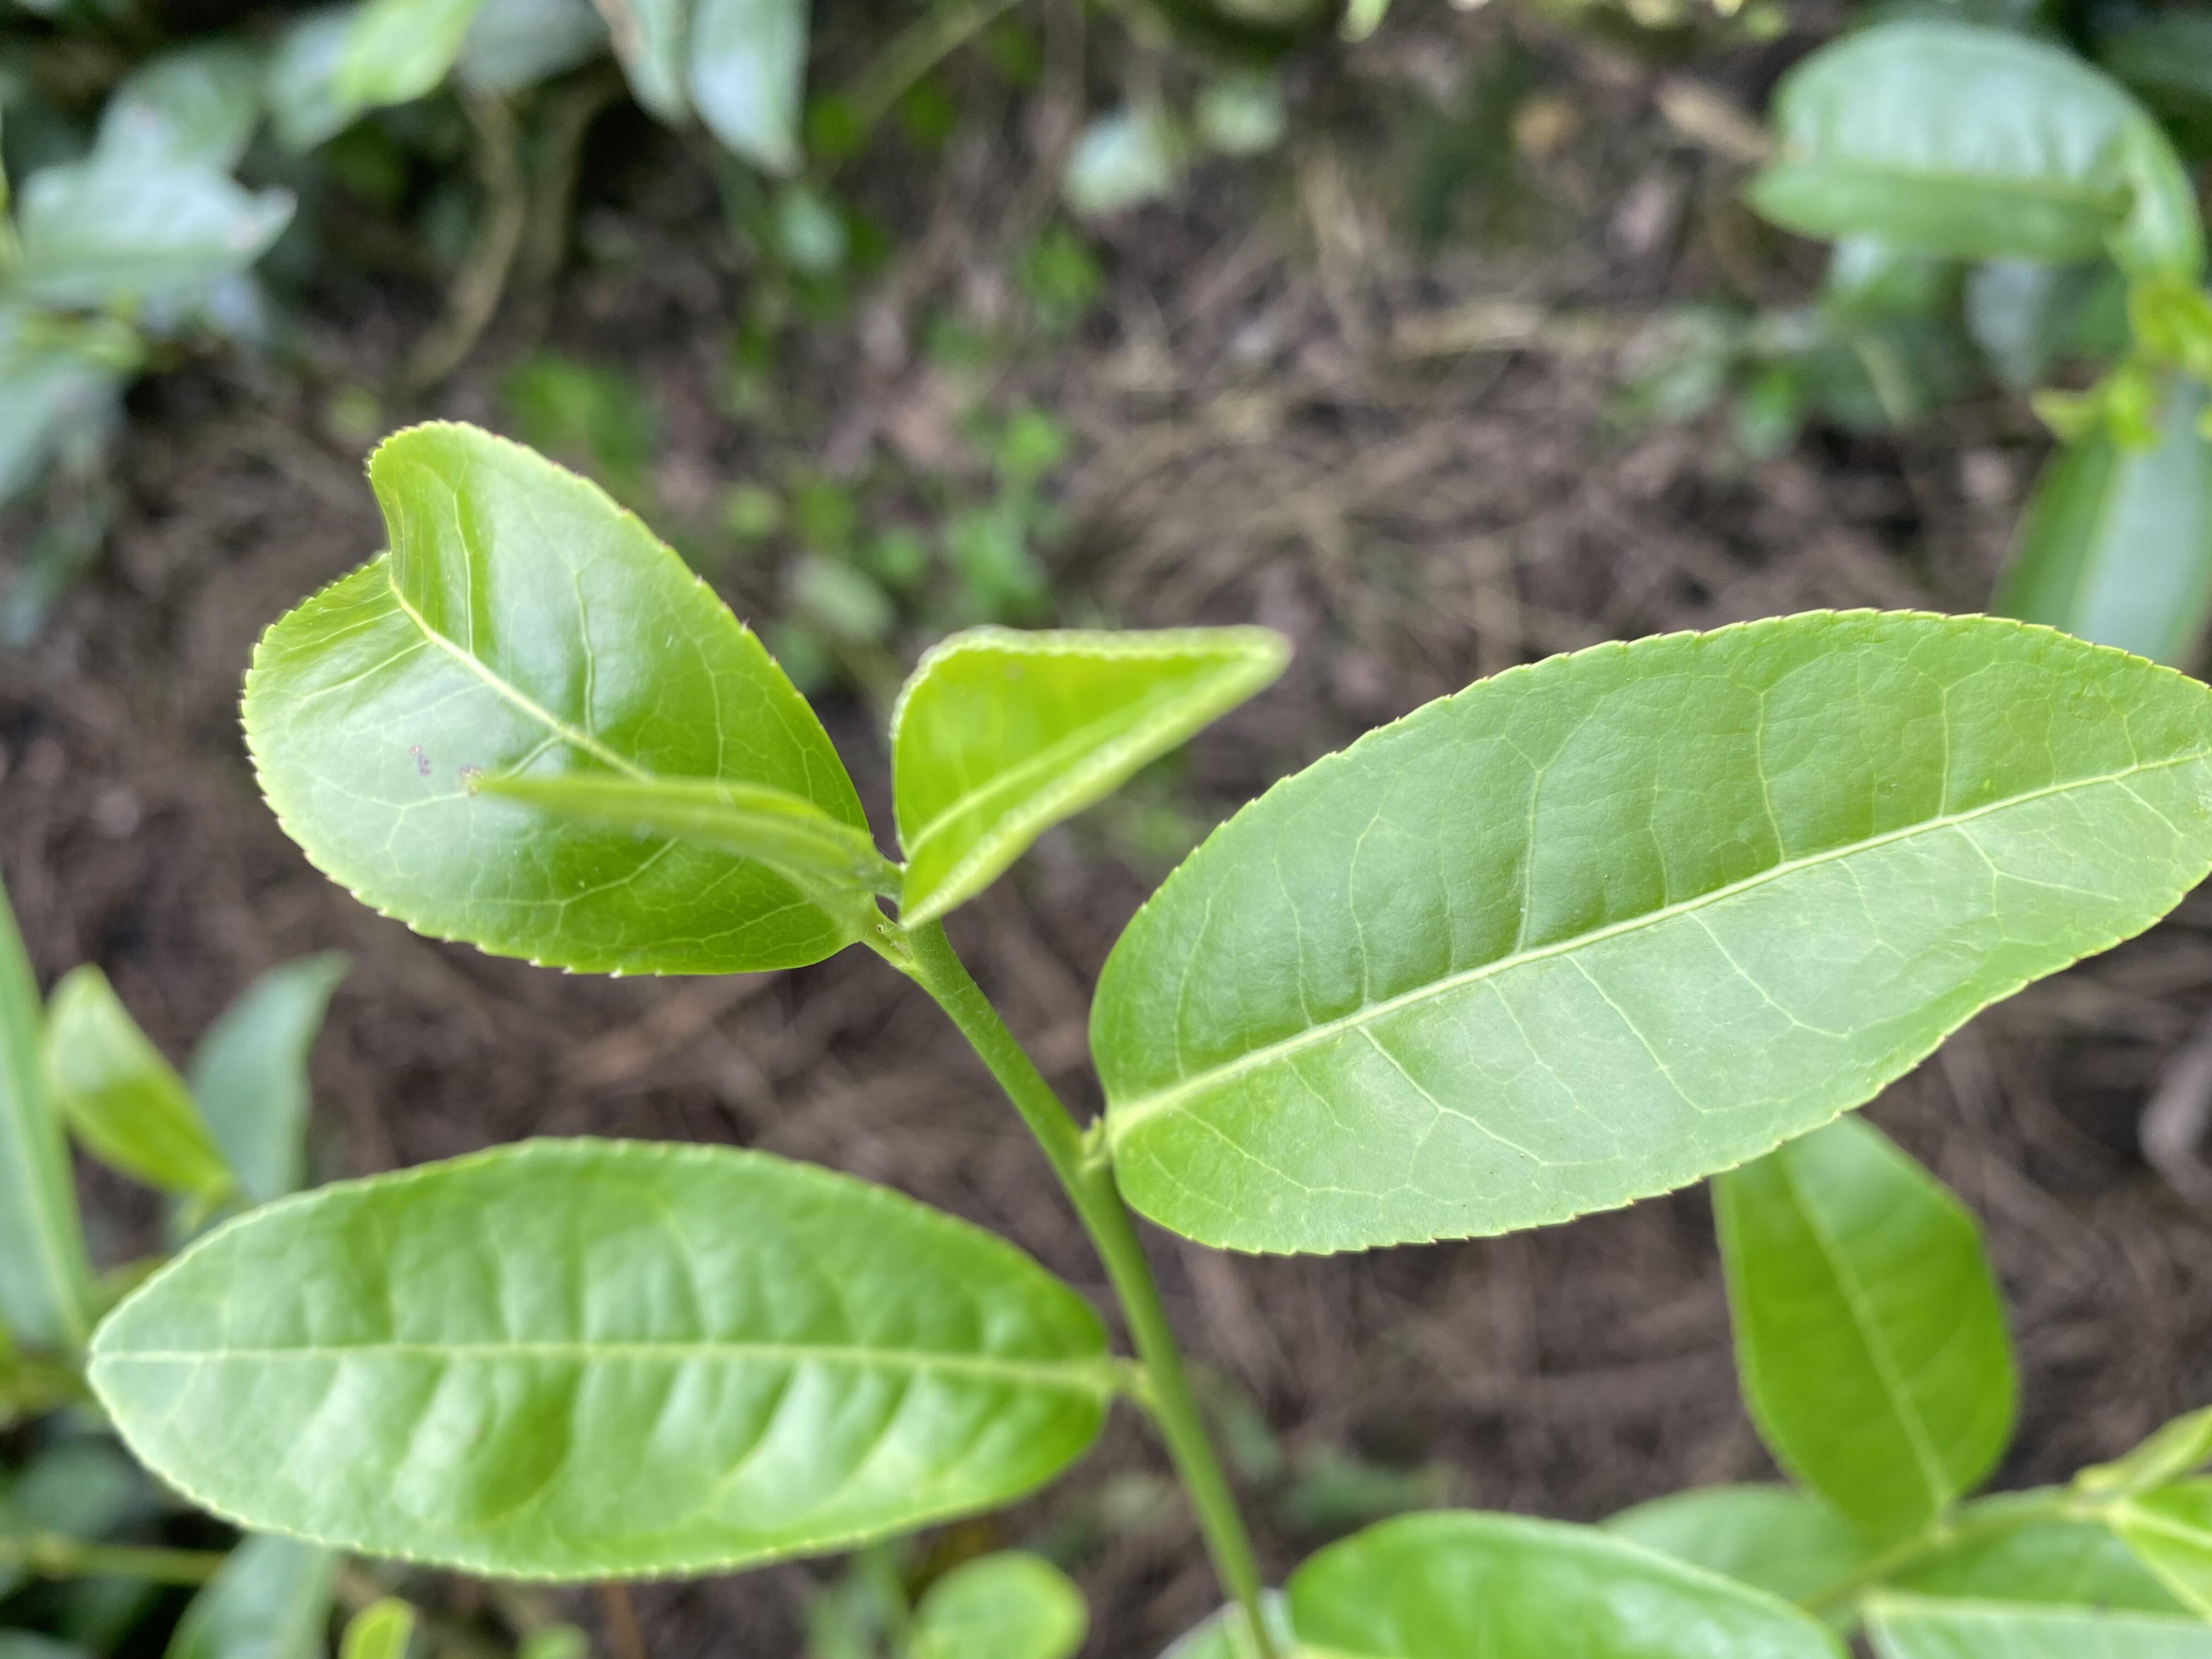healthy: (1090, 606, 2209, 1258), (82, 1134, 1113, 1586), (887, 622, 1289, 934)
tanju_low: (233, 418, 880, 983)
